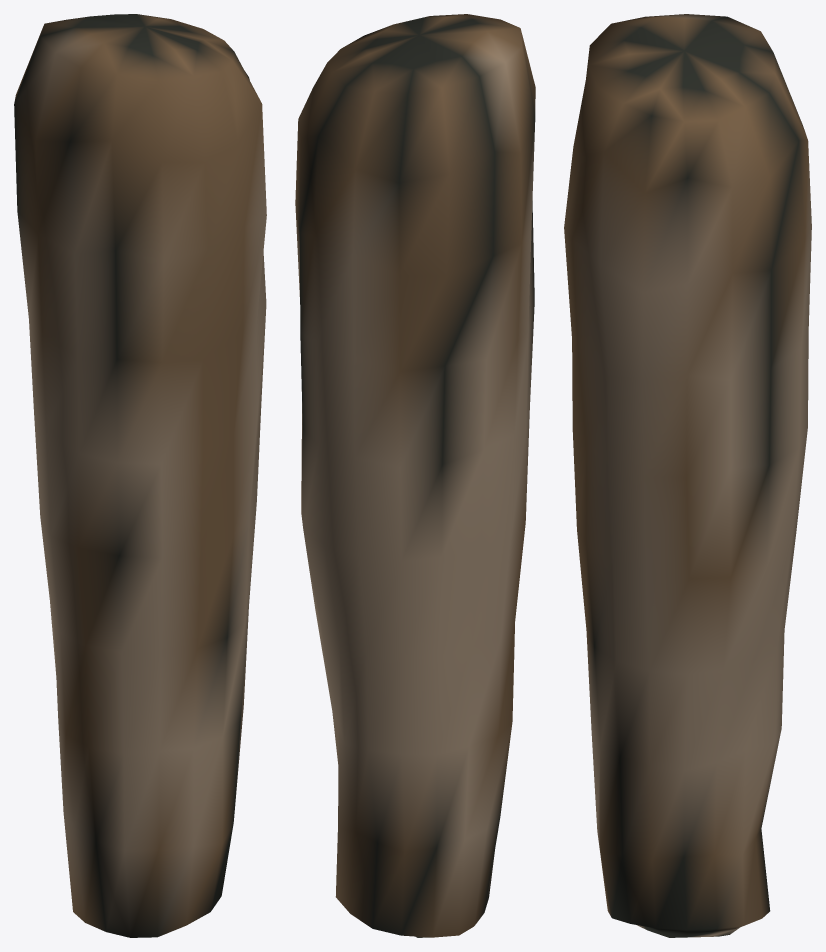
File: Stalagnat_up.fbx
3 views of the same model, side by side, from view 1: azimuth 30°, elevation 25°; view 2: azimuth 150°, elevation 25°; view 3: azimuth 270°, elevation 25° (orthographic).
Visible parts, largest first — view 1: Stalagnat; view 2: Stalagnat; view 3: Stalagnat.
Boxes of the visible parts, bbox=[...] form: Stalagnat: bbox=[14, 14, 266, 937]; Stalagnat: bbox=[295, 14, 535, 937]; Stalagnat: bbox=[564, 14, 811, 937].
Size of the model in its own units: 74.31 by 299 by 75.32.
